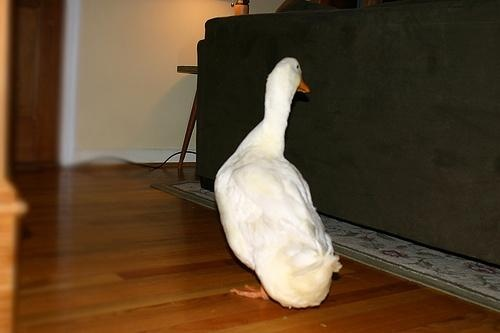bird: (207, 57, 348, 312)
